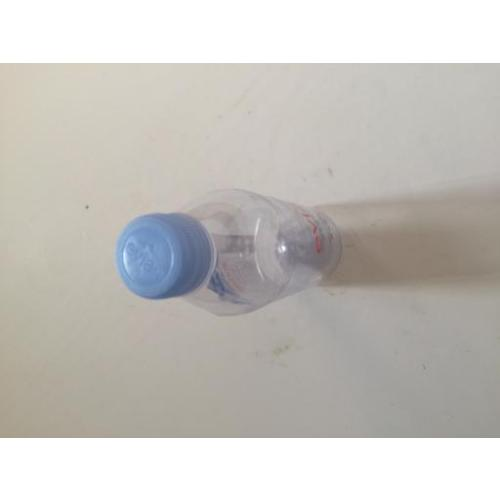plastic: (113, 190, 339, 314)
